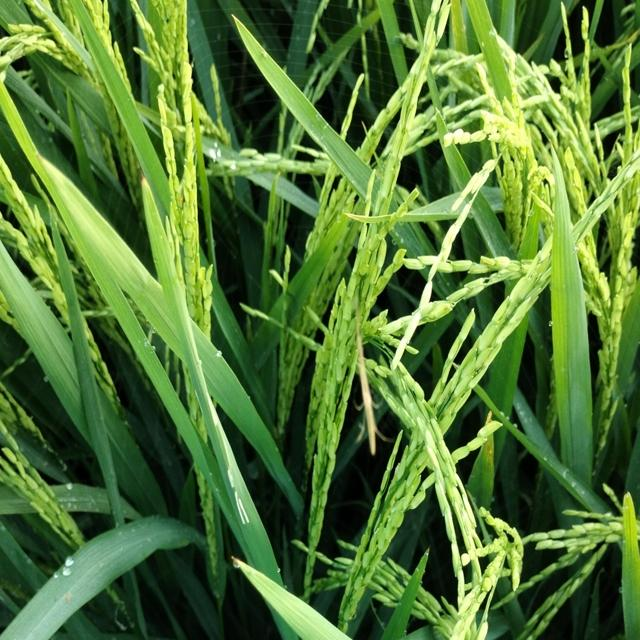brown plant hopper: (191, 350, 254, 531)
